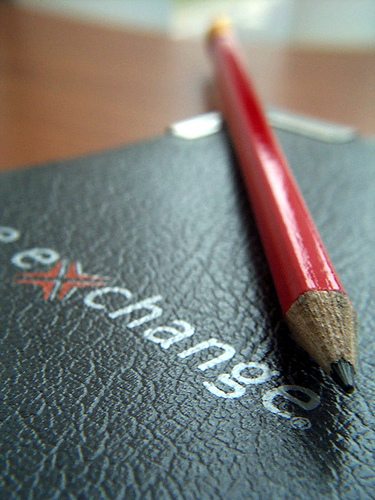pen_tip: (270, 283, 364, 406)
